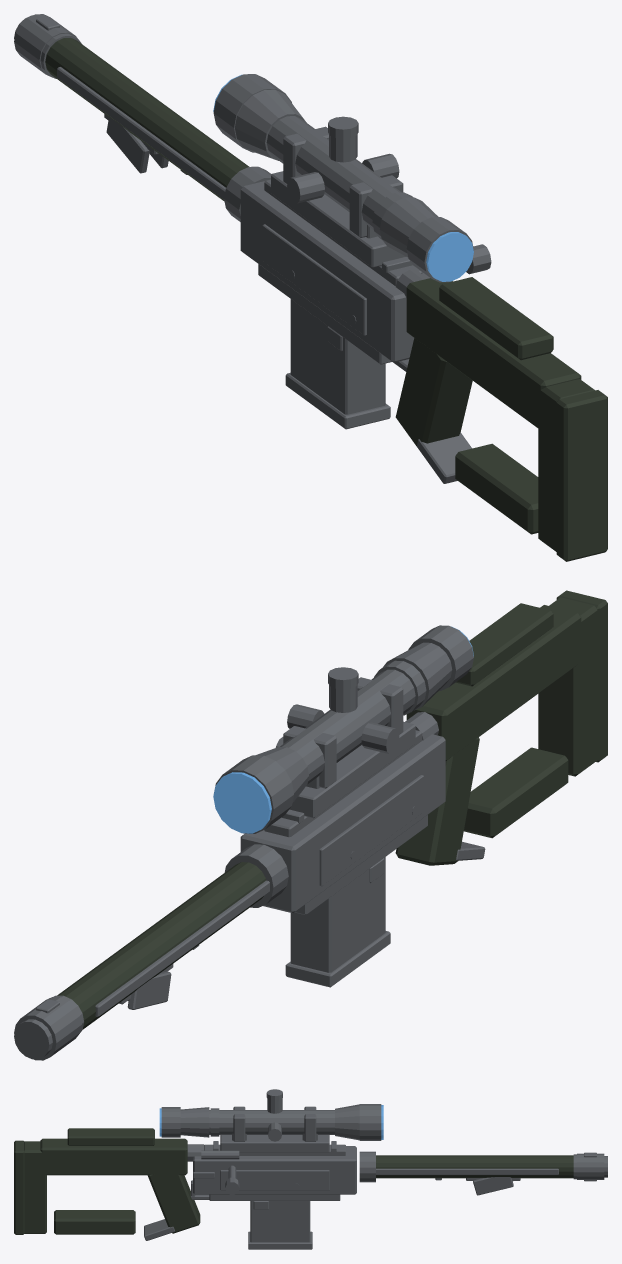
Rendered from awp.glb.
The picture shows the model from 3 angles, top to bottom: view 1: azimuth 30°, elevation 25°; view 2: azimuth 150°, elevation 25°; view 3: azimuth 270°, elevation 25°; orthographic projection. The views are drawn at different scales.
Visible parts, largest first — view 1: awp; view 2: awp; view 3: awp.
Part boxes in pixels (box(x1,y1,x2,y2)): awp: box(14, 14, 607, 561); awp: box(14, 590, 607, 1060); awp: box(14, 1089, 607, 1249).
Size of the model in its own units: 0.171 by 0.306 by 1.09.
